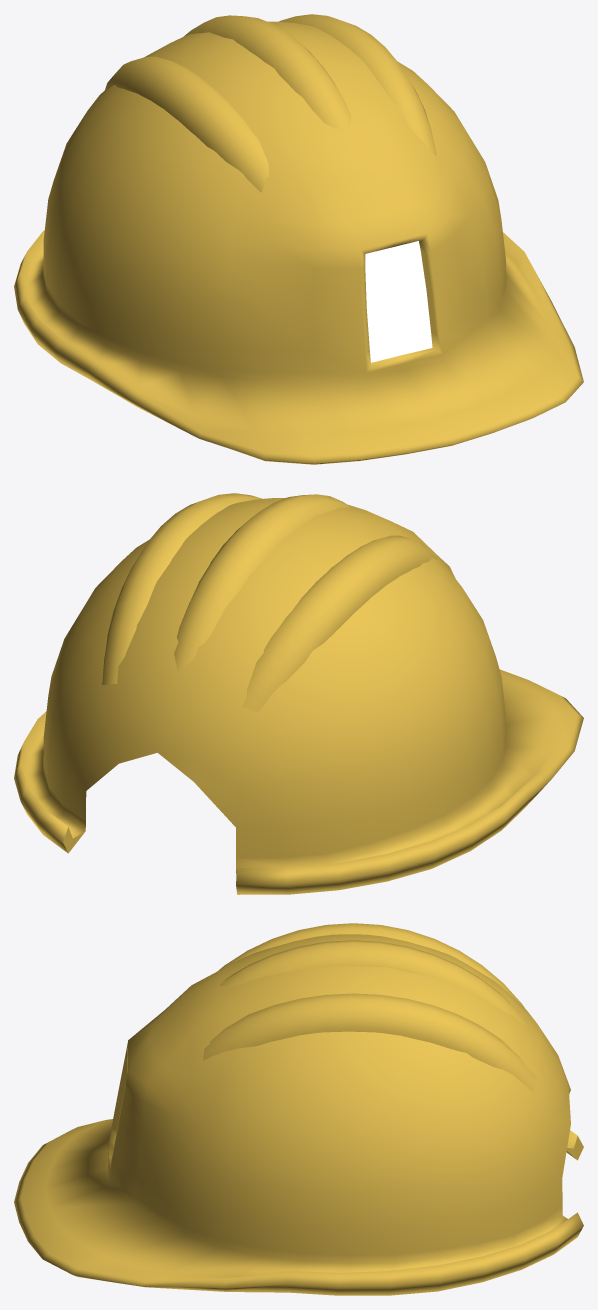
File: Hat_Hardhat.fbx
3 views of the same model, one above another, from view 1: azimuth 30°, elevation 25°; view 2: azimuth 150°, elevation 25°; view 3: azimuth 270°, elevation 25° (orthographic). The views are drawn at different scales.
Parts seen in each view (by area): view 1: Sphere.001; view 2: Sphere.001; view 3: Sphere.001.
Boxes of the visible parts, <box> form: Sphere.001: <box>14,14,583,464</box>; Sphere.001: <box>14,493,583,894</box>; Sphere.001: <box>14,923,583,1295</box>.
Size of the model in its own units: 255 by 152 by 299.
